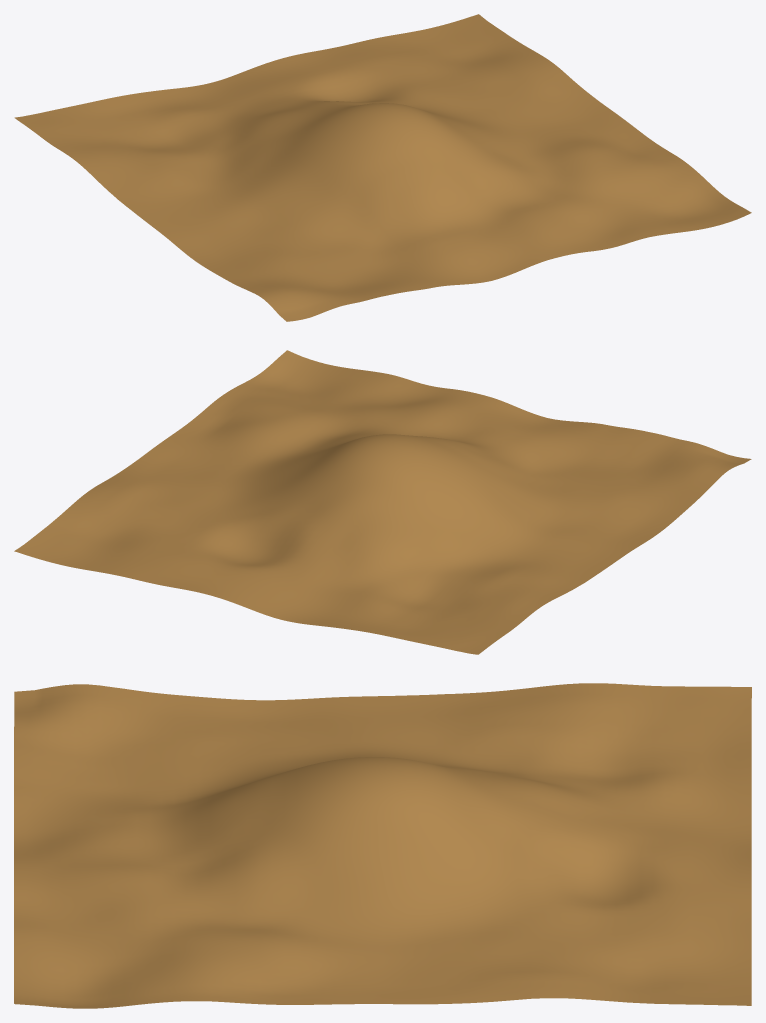
Rendered from terre_bosse_pos3.fbx.
The picture shows the model from 3 angles, top to bottom: view 1: azimuth 30°, elevation 25°; view 2: azimuth 150°, elevation 25°; view 3: azimuth 270°, elevation 25°; orthographic projection. The views are drawn at different scales.
Visible parts, largest first — view 1: terrre_bosse_pos3; view 2: terrre_bosse_pos3; view 3: terrre_bosse_pos3.
Part boxes in pixels (box(x1,y1,x2,y2)): terrre_bosse_pos3: box(14, 14, 751, 321); terrre_bosse_pos3: box(14, 350, 751, 654); terrre_bosse_pos3: box(14, 683, 751, 1008).
Size of the model in its own units: 708 by 97.8 by 721.
